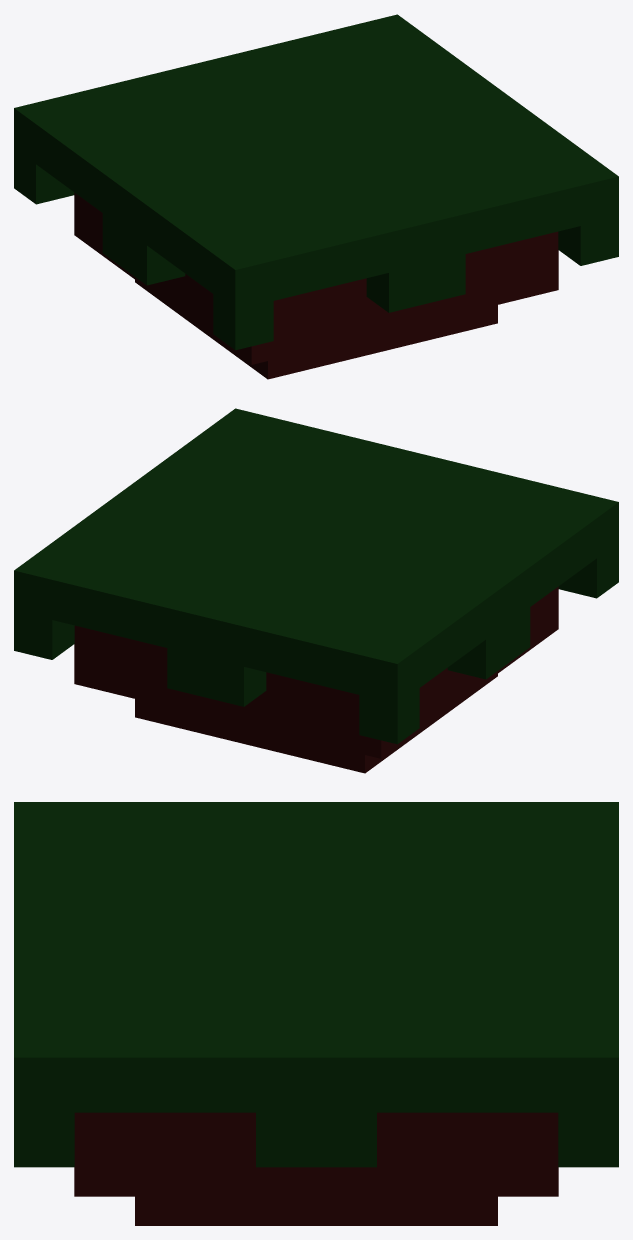
File: FloorTile.obj
The picture shows the model from 3 angles, top to bottom: view 1: azimuth 30°, elevation 25°; view 2: azimuth 150°, elevation 25°; view 3: azimuth 270°, elevation 25°; orthographic projection. The views are drawn at different scales.
Size of the model in its own units: 1 by 0.4 by 1.
Materials: 1 (1 with a texture image).
